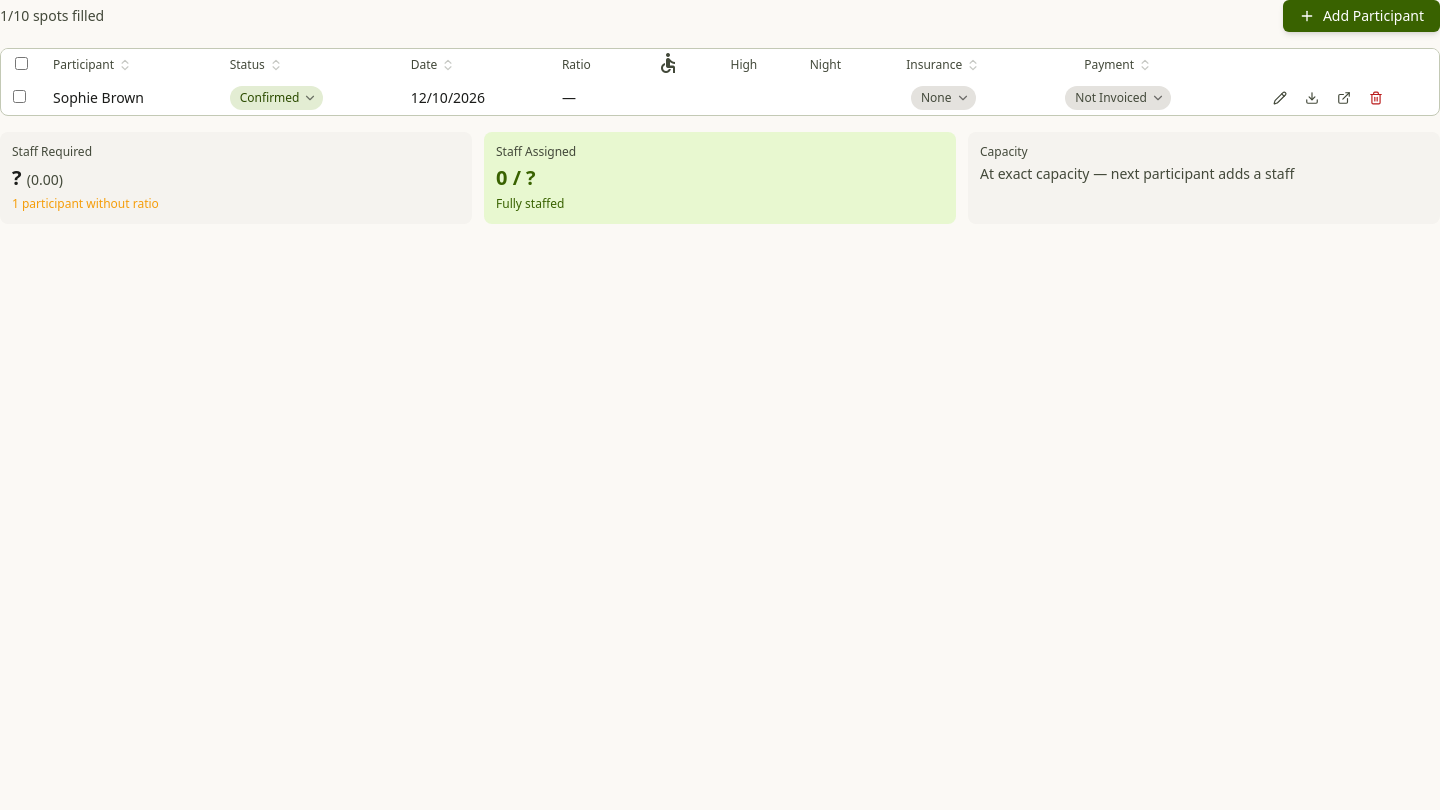
Scenario: BookingsTab — dialogs › Edit Booking: Escape closes it and focus returns to the opener
Click the button titled "Edit booking" at (1280, 98), box [1268,86,1292,110]
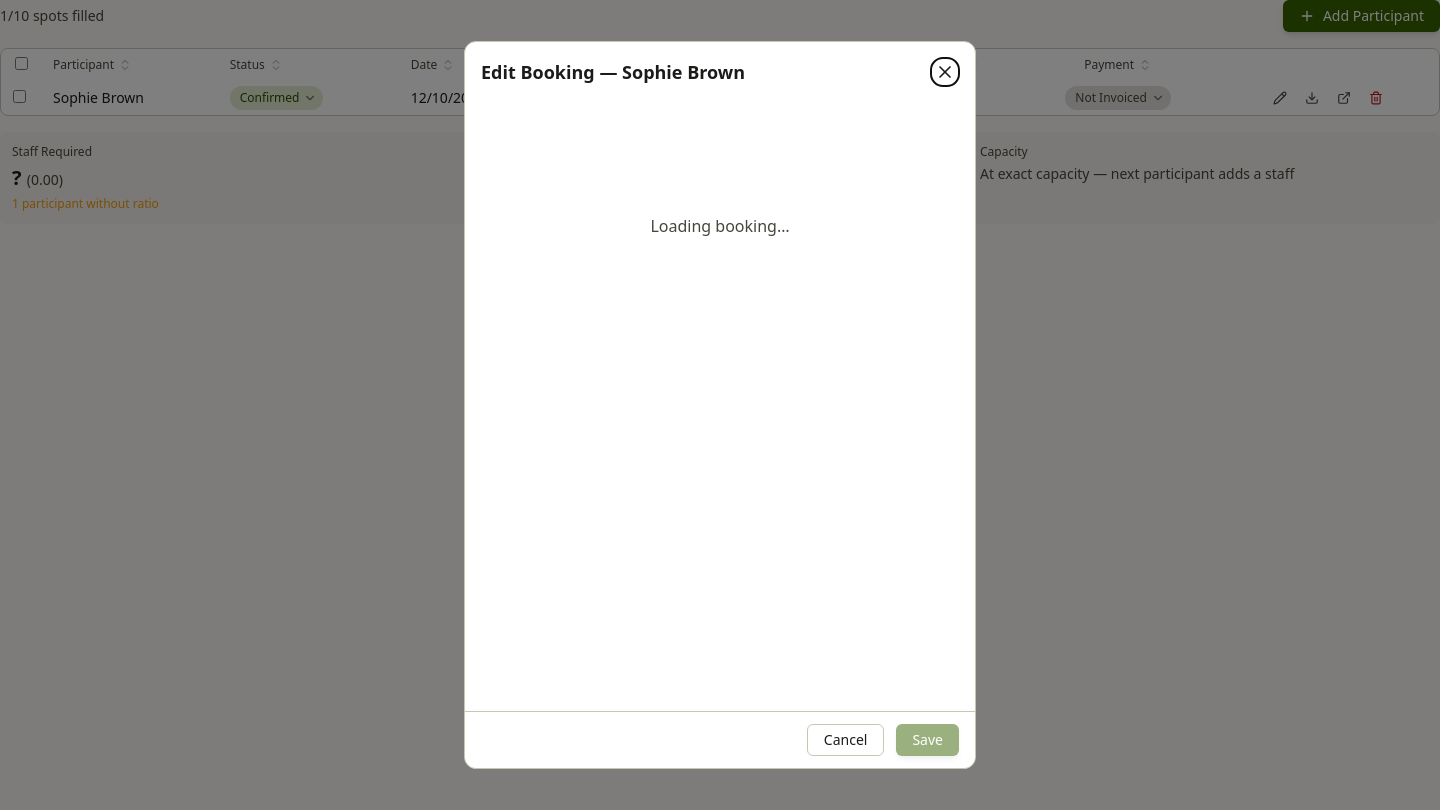
Now the dialog "Edit Booking — Sophie Brown Loading booking… Cancel Save" is shown, box [464,41,976,769]
Press Escape
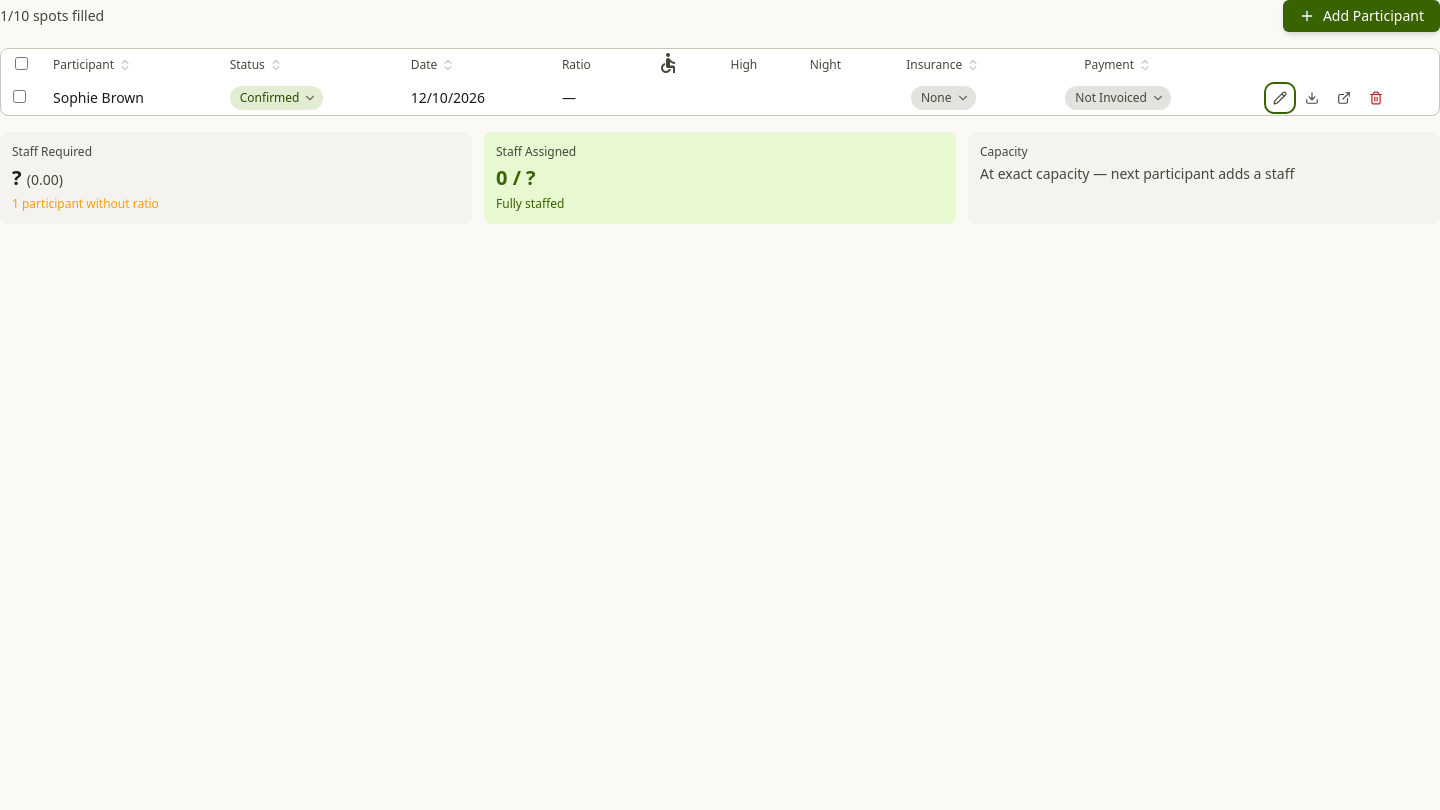
Now the dialog is gone
